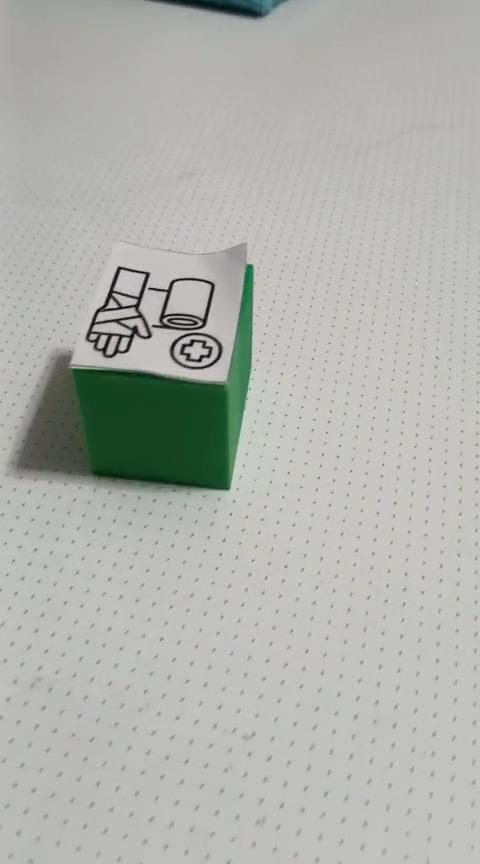Bandages: (67, 238, 254, 490)
